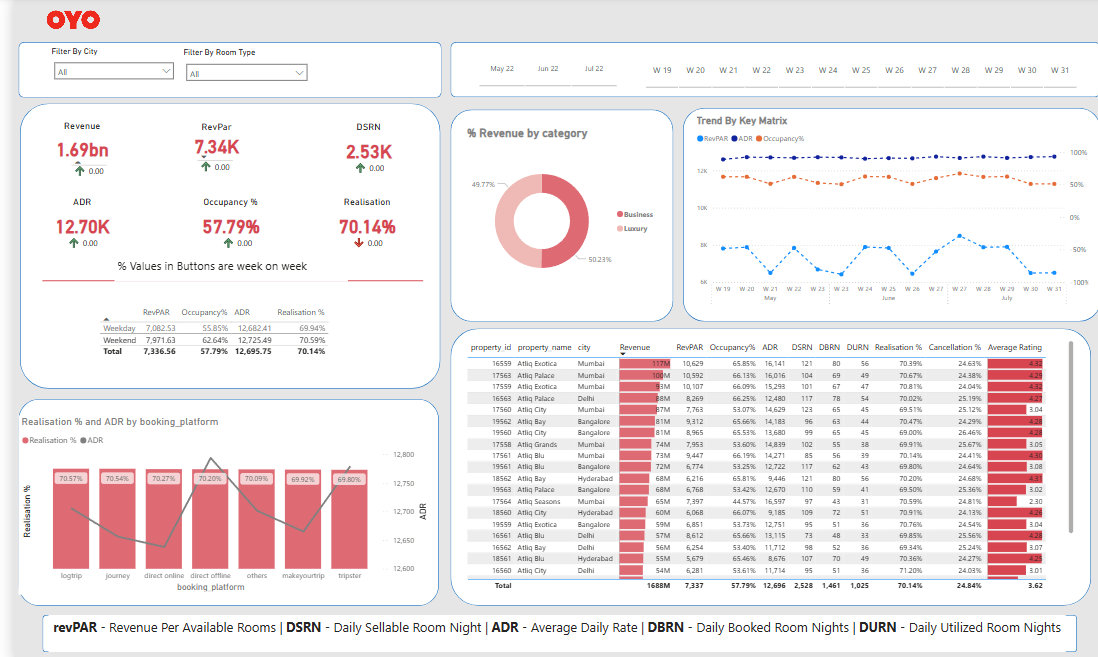

What the dashboard file says about the page in this screenshot:
{"tool":"powerbi","page":{"name":"Page 1","canvas":[1800,1100],"ordinal":0},"visuals":[{"type":"shape","box":[722.9,549.3,1061.2,459.2],"z":0},{"type":"shape","box":[6.6,665.7,696.5,342.8],"z":1000},{"type":"shape","box":[11,175.8,696.5,472.4],"z":2000},{"type":"shape","box":[722.9,185.3,369.1,351.5],"z":3000},{"type":"shape","box":[1107.3,183.1,692.1,353.7],"z":4000},{"type":"shape","box":[6.6,74.7,700.9,92.3],"z":5000},{"type":"tableEx","fields":{"Values":["key measures.RevPAR WoW change %"]},"box":[297.6,238.1,77.2,65.1],"z":5000,"group":"g2"},{"type":"tableEx","fields":{"Values":["key measures.DSRN WoW change %"]},"box":[553.1,240.8,73.1,62.7],"z":5000,"group":"g3"},{"type":"tableEx","fields":{"Values":["key measures.Revenue WoW change %"]},"box":[88.4,247.5,79.1,63.7],"z":5000,"group":"g1"},{"type":"tableEx","fields":{"Values":["key measures.ADR WoW change %"]},"box":[78.5,363.9,73.1,62.7],"z":5000,"group":"g5"},{"type":"tableEx","fields":{"Values":["key measures.Realisation WoW change %"]},"box":[550.9,363.9,73.1,62.7],"z":5000,"group":"g6"},{"type":"tableEx","fields":{"Values":["key measures.Occupancy WoW change %"]},"box":[334.5,364.8,76.9,74.7],"z":5000,"group":"g4"},{"type":"shape","box":[723.4,73.7,1076.2,91.5],"z":6000},{"type":"card","title":"Revenue","fields":{"Values":["key measures.Revenue"]},"box":[19.8,204.3,186.2,68.8],"z":7000,"group":"g1"},{"type":"card","title":"RevPar","fields":{"Values":["key measures.RevPAR"]},"box":[240.2,205.4,189,54.9],"z":7000,"group":"g2"},{"type":"card","title":"DSRN","fields":{"Values":["key measures.DSRN"]},"box":[494.4,206.5,186.2,68.8],"z":7000,"group":"g3"},{"type":"card","title":"ADR","fields":{"Values":["key measures.ADR"]},"box":[19.8,329.6,186.2,68.8],"z":7000,"group":"g5"},{"type":"card","title":"Occupancy %","fields":{"Values":["key measures.Occupancy%"]},"box":[265.9,329.6,186.2,68.8],"z":7000,"group":"g4"},{"type":"card","title":"Realisation","fields":{"Values":["key measures.Realisation %"]},"box":[492.2,329.6,186.2,68.8],"z":7000,"group":"g6"},{"type":"tableEx","fields":{"Values":["dim_hotels.property_id","dim_hotels.property_name","dim_hotels.city","key measures.Revenue","key measures.RevPAR","key measures.Occupancy%","key measures.ADR","key measures.DSRN","key measures.DBRN","key measures.DURN","key measures.Realisation %","key measures.Cancellation %"]},"box":[744.8,564.7,1015.1,424],"z":7000},{"type":"slicer","title":"Filter  By City","fields":{"Values":["dim_hotels.city"]},"box":[57.1,81.3,217.5,72.5],"z":8000},{"type":"slicer","title":"Filter  By Room Type","fields":{"Values":["dim_rooms.room_class"]},"box":[274.6,85.7,219.7,72.5],"z":9000},{"type":"slicer","title":"Filter  By Room Type","fields":{"Values":["dim_date.mmm yy"]},"box":[744.8,81.3,276.8,72.5],"z":10000},{"type":"slicer","title":"Filter  By Room Type","fields":{"Values":["dim_date.week no"]},"box":[1021.7,85.7,762.4,72.5],"z":11000},{"type":"donutChart","title":"% Revenue by category","fields":{"Category":["dim_hotels.category"],"Y":["key measures.Occupancy%"]},"box":[744.8,213.9,327.4,290],"z":12000},{"type":"group","id":"g1","title":"Group 1","box":[19.8,204.3,186.2,106.9],"z":13000},{"type":"group","id":"g2","title":"Group 1","box":[240.2,205.4,189,97.8],"z":14000},{"type":"group","id":"g3","title":"Group 1","box":[494.4,206.5,186.8,98.9],"z":15000},{"type":"group","id":"g4","title":"Group 1","box":[265.9,329.6,186.8,109.9],"z":16000},{"type":"group","id":"g5","title":"Group 1","box":[19.8,329.6,186.8,96.7],"z":17000},{"type":"group","id":"g6","title":"Group 1","box":[492.2,329.6,186.8,96.7],"z":18000},{"type":"lineChart","title":"Trend By Key Matrix","fields":{"Category":["dim_date.mmm yy.Variation.Date Hierarchy.Month","dim_date.week no"],"Y":["key measures.RevPAR","key measures.ADR"],"Y2":["key measures.Occupancy%"]},"box":[1124.9,193.3,659.1,325.2],"z":19000},{"type":"lineStackedColumnComboChart","fields":{"Category":["fact_booking.booking_platform"],"Y":["key measures.Realisation %"],"Y2":["key measures.ADR"]},"box":[6.6,692.1,681.1,296.6],"z":20000},{"type":"tableEx","fields":{"Values":["dim_date.day_type","key measures.RevPAR","key measures.Occupancy%","key measures.ADR","key measures.Realisation %"]},"box":[136.2,507.5,395.5,112.1],"z":21000},{"type":"shape","box":[33,450.4,648.1,52.7],"z":22000},{"type":"shape","box":[48.3,320.8,630.6,298.8],"z":23000},{"type":"textbox","box":[167,426.2,386.7,43.9],"z":24000},{"type":"shape","box":[46.1,1023.9,1713.8,61.5],"z":25000},{"type":"image","box":[30.8,0,136.2,74.7],"z":25001},{"type":"textbox","box":[57.1,1023.9,1685.2,61.5],"z":25002}]}

Visuals, with their boxes in screenshot pixels (x1, y1, x2, y2), scaled from the page's 1800x1100 canvas onto the 1098x657 screenshot:
shape: rect(441, 328, 1088, 602)
shape: rect(4, 398, 429, 602)
shape: rect(7, 105, 432, 387)
shape: rect(441, 111, 666, 321)
shape: rect(675, 109, 1097, 321)
shape: rect(4, 45, 432, 100)
tableEx - key measures.RevPAR WoW change %: rect(182, 142, 229, 181)
tableEx - key measures.DSRN WoW change %: rect(337, 144, 382, 181)
tableEx - key measures.Revenue WoW change %: rect(54, 148, 102, 186)
tableEx - key measures.ADR WoW change %: rect(48, 217, 92, 255)
tableEx - key measures.Realisation WoW change %: rect(336, 217, 381, 255)
tableEx - key measures.Occupancy WoW change %: rect(204, 218, 251, 263)
shape: rect(441, 44, 1097, 99)
"Revenue" card: rect(12, 122, 126, 163)
"RevPar" card: rect(147, 123, 262, 155)
"DSRN" card: rect(302, 123, 415, 164)
"ADR" card: rect(12, 197, 126, 238)
"Occupancy %" card: rect(162, 197, 276, 238)
"Realisation" card: rect(300, 197, 414, 238)
tableEx - dim_hotels.property_id x dim_hotels.property_name: rect(454, 337, 1074, 591)
"Filter  By City" slicer: rect(35, 49, 168, 92)
"Filter  By Room Type" slicer: rect(168, 51, 302, 94)
"Filter  By Room Type" slicer: rect(454, 49, 623, 92)
"Filter  By Room Type" slicer: rect(623, 51, 1088, 94)
"% Revenue by category" donutChart: rect(454, 128, 654, 301)
"Group 1" group: rect(12, 122, 126, 186)
"Group 1" group: rect(147, 123, 262, 181)
"Group 1" group: rect(302, 123, 416, 182)
"Group 1" group: rect(162, 197, 276, 263)
"Group 1" group: rect(12, 197, 126, 255)
"Group 1" group: rect(300, 197, 414, 255)
"Trend By Key Matrix" lineChart: rect(686, 115, 1088, 310)
lineStackedColumnComboChart - fact_booking.booking_platform x key measures.Realisation %: rect(4, 413, 419, 591)
tableEx - dim_date.day_type x key measures.RevPAR: rect(83, 303, 324, 370)
shape: rect(20, 269, 415, 300)
shape: rect(29, 192, 414, 370)
textbox: rect(102, 255, 338, 281)
shape: rect(28, 612, 1074, 648)
image: rect(19, 0, 102, 45)
textbox: rect(35, 612, 1063, 648)
